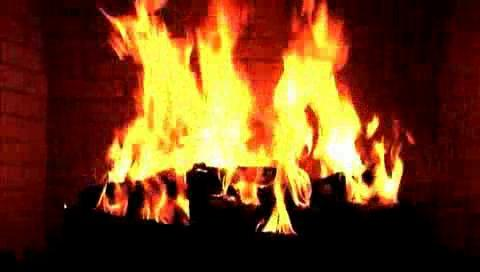fire: (101, 10, 378, 221)
